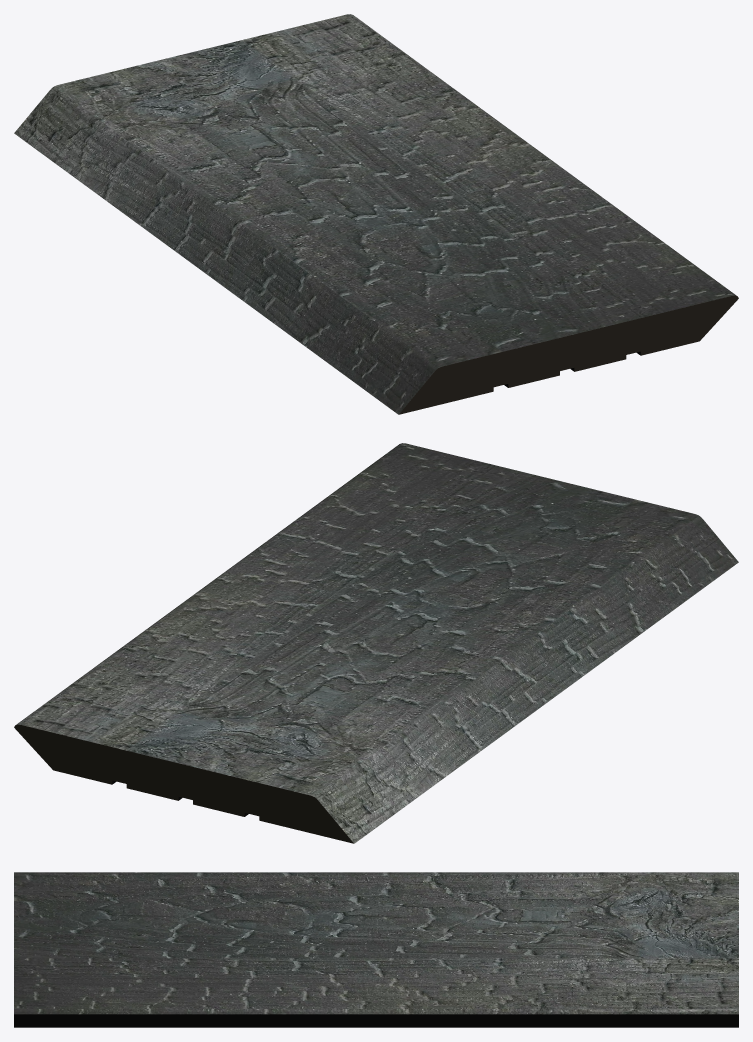
File: thermo-facade-rhombus-carbon-light.glb
3 renders of one model, top to bottom at view 1: azimuth 30°, elevation 25°; view 2: azimuth 150°, elevation 25°; view 3: azimuth 270°, elevation 25°, orthographic. The views are drawn at different scales.
Parts seen in each view (by area): view 1: Rombas; view 2: Rombas; view 3: Rombas.
Boxes of the visible parts, box(x1,y1,x2,y2) form: Rombas: box(14, 14, 738, 414); Rombas: box(14, 443, 738, 843); Rombas: box(14, 872, 738, 1027).
Size of the model in its own units: 0.0942 by 0.00994 by 0.1843.
Materials: 3 (1 with a texture image).
